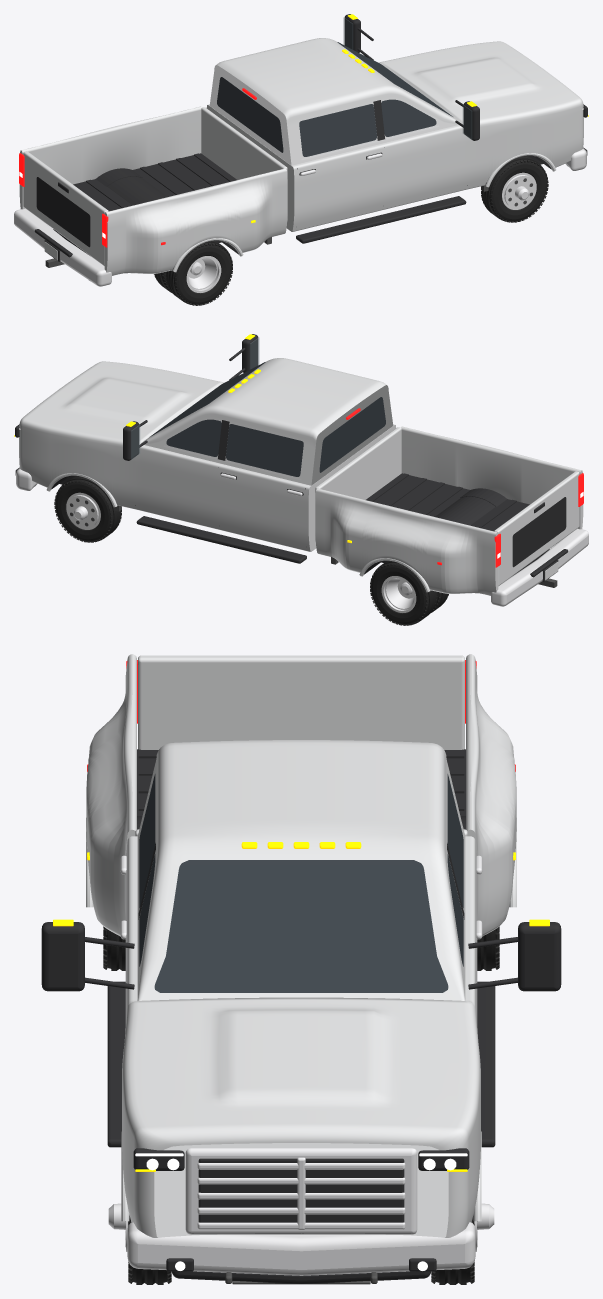
The model's file is dually_pickup_truck.glb.
3 renders of one model, top to bottom at view 1: azimuth 30°, elevation 25°; view 2: azimuth 150°, elevation 25°; view 3: azimuth 270°, elevation 25°, orthographic. The views are drawn at different scales.
Visible parts, largest first — view 1: body, bed, cab_glass, tailgate_tilt, wheel_rear_right_spin, wheel_front_right_spin, rear_bumper, front_fascia; view 2: body, bed, cab_glass, tailgate_tilt, wheel_rear_left_spin, wheel_front_left_spin, rear_bumper, front_fascia; view 3: body, cab_glass, front_fascia, tailgate_tilt, bed, wheel_front_right_spin, wheel_front_left_spin.
Part boxes in pixels (x1,y1,x2,y2): body: (107, 14, 583, 272); bed: (19, 106, 287, 275); cab_glass: (217, 42, 452, 156); tailgate_tilt: (23, 151, 108, 265); wheel_rear_right_spin: (154, 240, 232, 305); wheel_front_right_spin: (481, 155, 548, 222); rear_bumper: (14, 153, 111, 286); front_fascia: (565, 104, 588, 170); body: (19, 334, 495, 592); bed: (315, 426, 583, 595); cab_glass: (150, 362, 385, 476); tailgate_tilt: (494, 471, 579, 585); wheel_rear_left_spin: (370, 560, 448, 625); wheel_front_left_spin: (54, 475, 121, 542); rear_bumper: (491, 473, 588, 606); front_fascia: (14, 424, 37, 490); body: (41, 740, 561, 1237); cab_glass: (139, 774, 463, 992); front_fascia: (127, 1148, 475, 1284); tailgate_tilt: (138, 655, 464, 749); bed: (86, 654, 516, 936); wheel_front_right_spin: (108, 1203, 171, 1284); wheel_front_left_spin: (431, 1203, 494, 1284).
Size of the model in its own units: 6.77 by 2.05 by 3.
12 materials, 12 textured.
